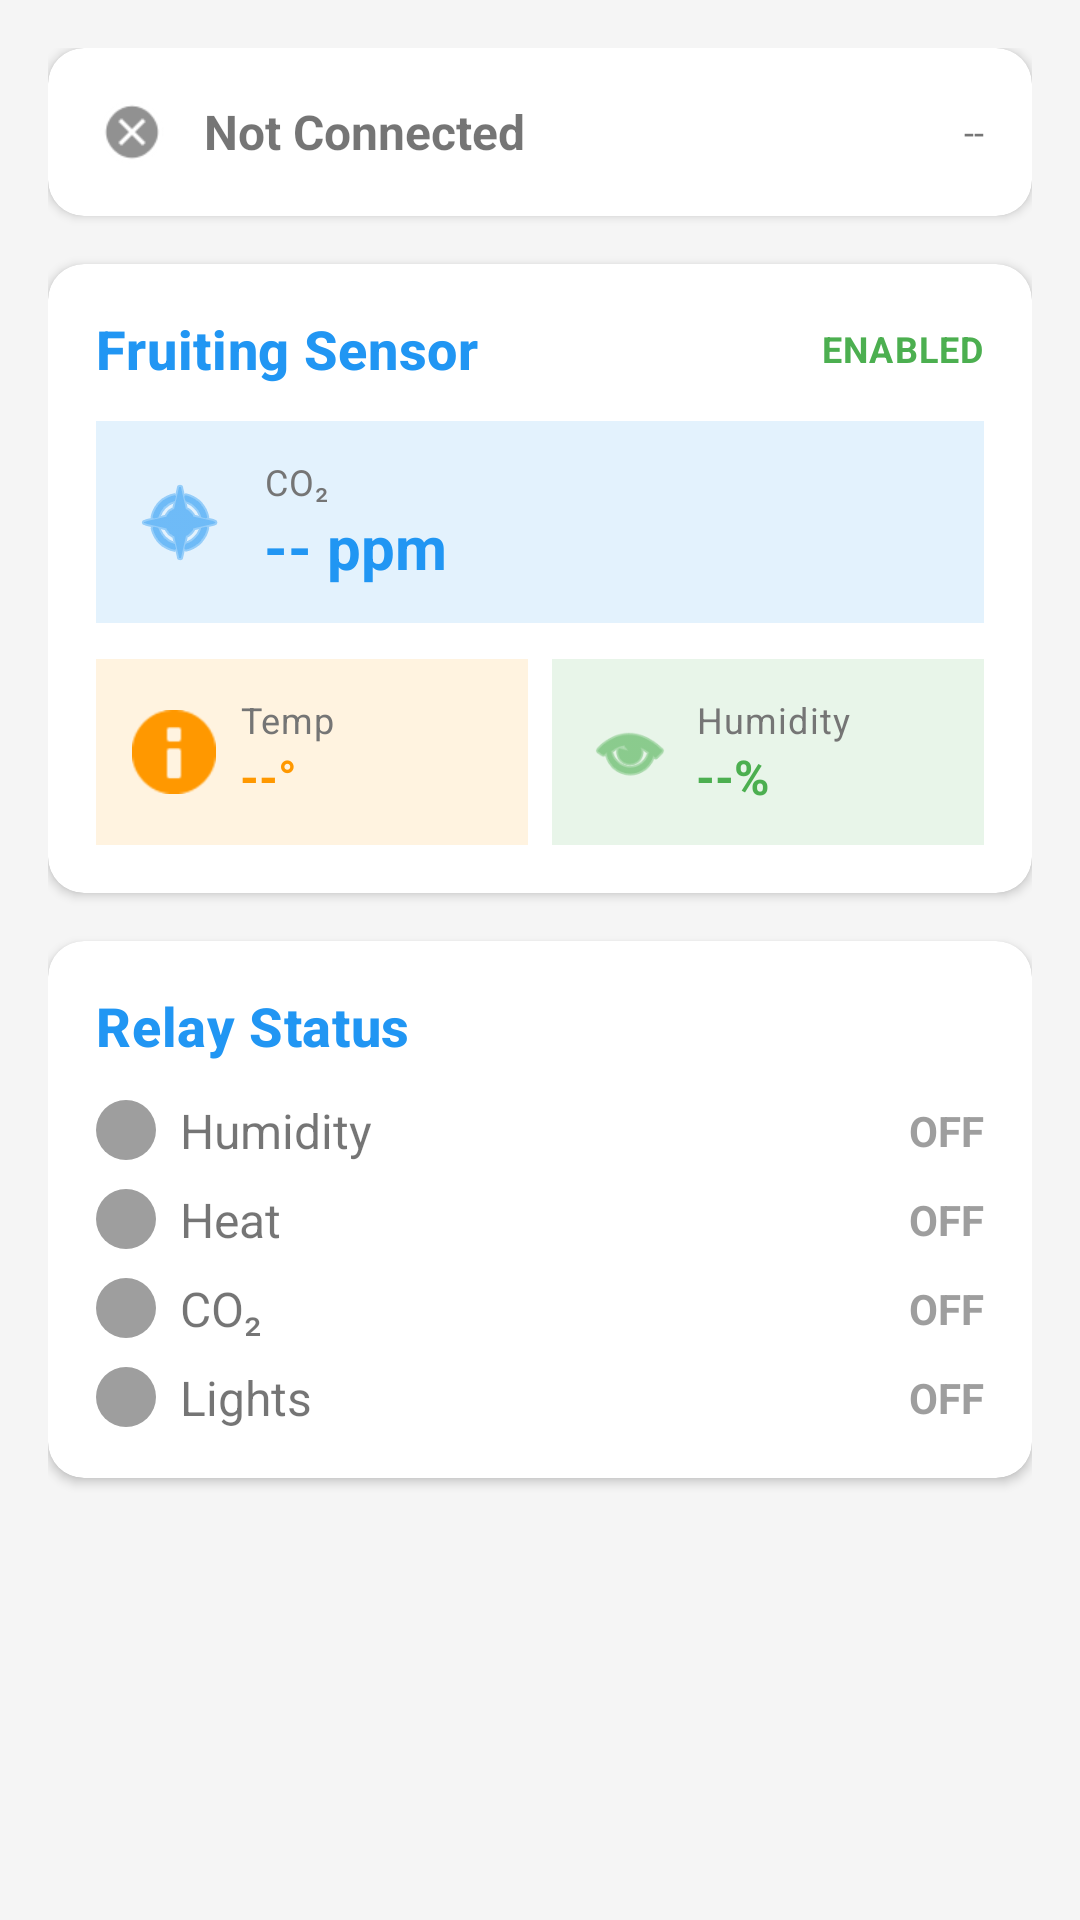

Named icons in this screenshot (1080px x 1920px) and their bounding boxes, [left=x1, top=y1, right=x2, bottom=y2]:
compass: [left=142, top=485, right=218, bottom=560]
info: [left=132, top=710, right=216, bottom=794]
presence offline: [left=106, top=106, right=158, bottom=159]
view: [left=596, top=733, right=664, bottom=776]
